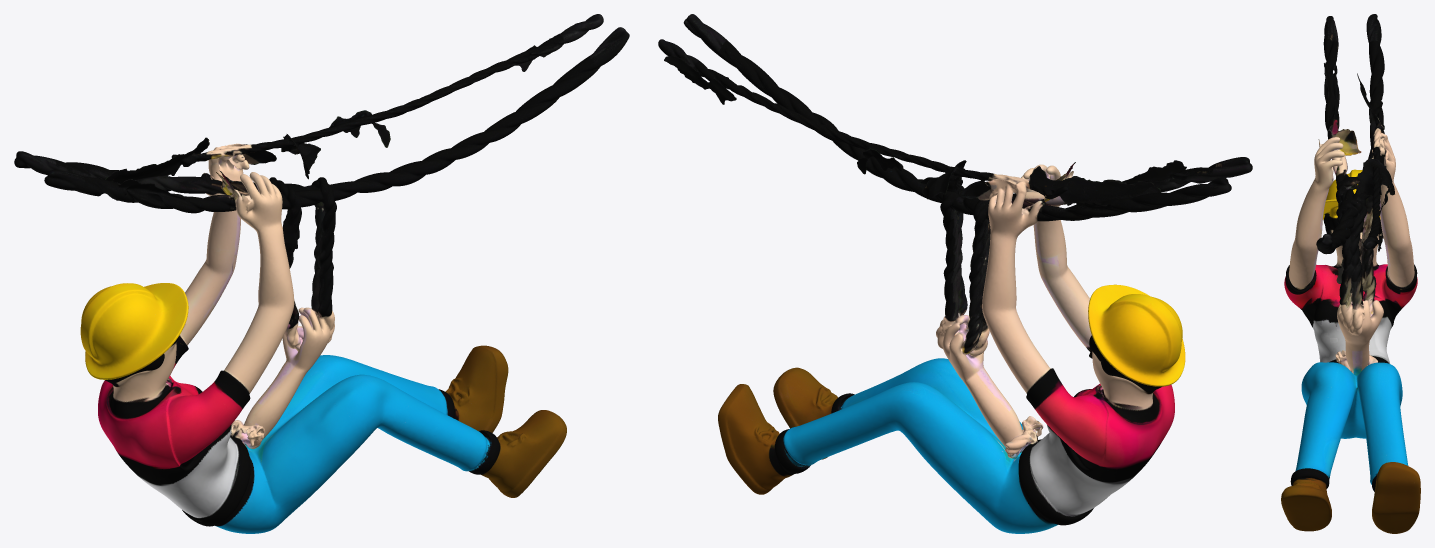
File: tirolina.glb
3 renders of one model, left to right at view 1: azimuth 30°, elevation 25°; view 2: azimuth 150°, elevation 25°; view 3: azimuth 270°, elevation 25°, orthographic. The views are drawn at different scales.
Visible parts, largest first — view 1: Mesh_0.001; view 2: Mesh_0.001; view 3: Mesh_0.001.
Boxes of the visible parts, box(x1,y1,x2,y2) form: Mesh_0.001: box(14, 14, 629, 533); Mesh_0.001: box(658, 14, 1252, 533); Mesh_0.001: box(1281, 14, 1420, 533).
Size of the model in its own units: 4.28 by 3 by 1.1.
Materials: 1 (1 with a texture image).
